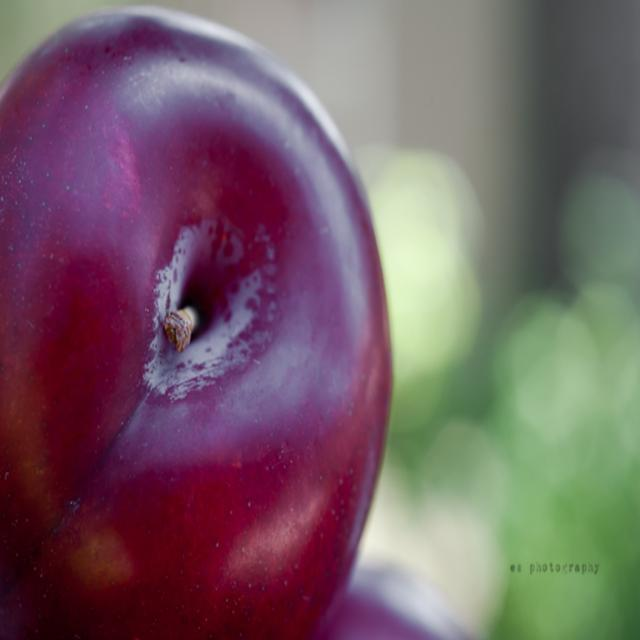Healty Apple: (0, 19, 394, 639)
